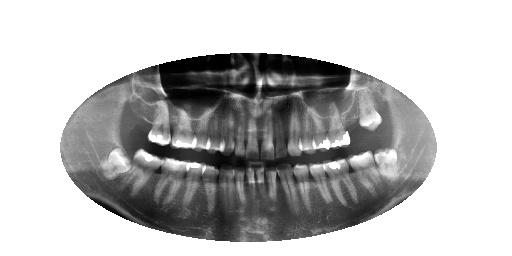Cavity: (277, 164, 292, 207), (247, 117, 259, 163), (272, 117, 285, 157)
